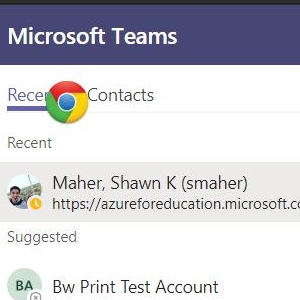chrome: (45, 80, 89, 124)
